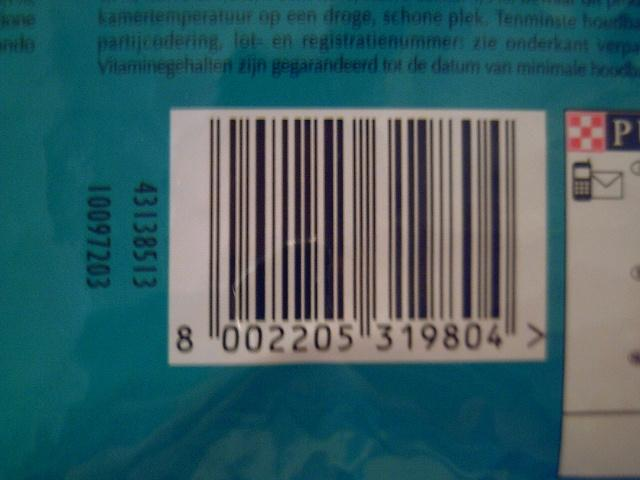Barcode: (169, 112, 548, 360)
